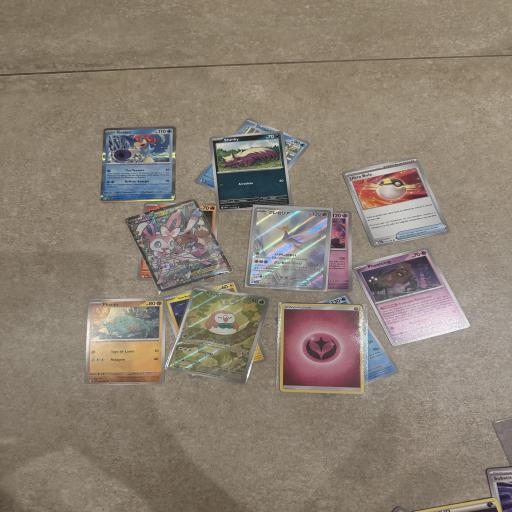card: (352, 230, 472, 363), (342, 143, 452, 262), (124, 186, 234, 305), (166, 281, 270, 386), (279, 303, 366, 394), (209, 129, 294, 215), (84, 297, 166, 385), (247, 206, 331, 291), (99, 126, 178, 202)
